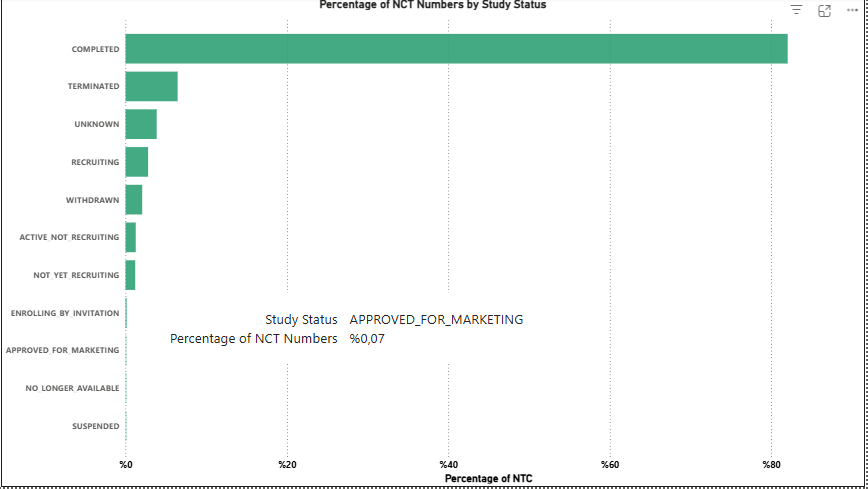

The dashboard page shown, as its layout file describes it:
{"tool":"powerbi","page":{"name":"Page 2","canvas":[1280,720],"ordinal":1},"visuals":[{"type":"barChart","title":"Percentage of NCT Numbers by Study Status ","fields":{"Category":["clinical_trials_cleaned.Study Status"],"Y":["clinical_trials_cleaned.Percentage of NCT Numbers by Study Status"]},"box":[10.6,0,1269.4,720.1],"z":0}]}

Visuals, with their boxes on the page's 1280x720 design canvas (x1, y1, x2, y2). These are canvas units, not pixel positions in the 868x489 screenshot, which may show the page scaled, cropped or inside an application window:
"Percentage of NCT Numbers by Study Status " barChart: [11, 0, 1280, 720]
